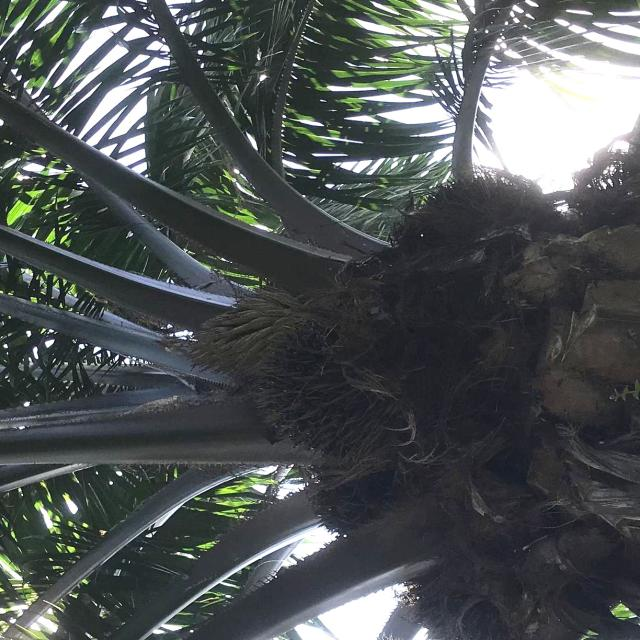unripe: (234, 308, 410, 484)
